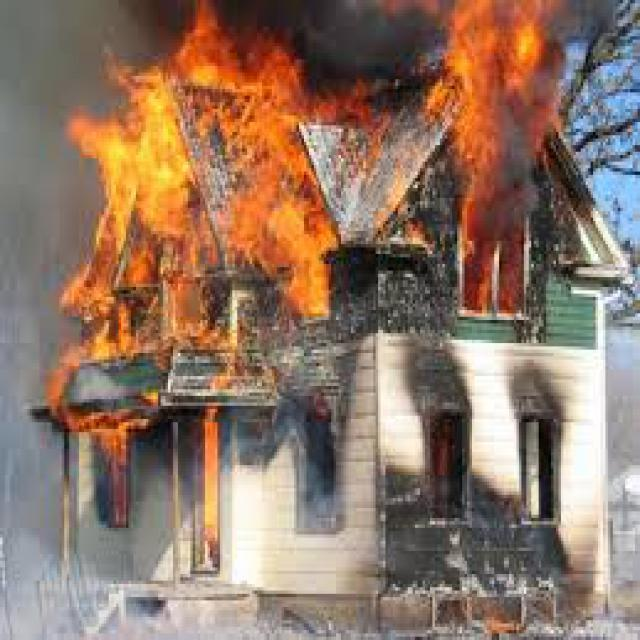Fire: (60, 44, 311, 344), (444, 1, 535, 207)
Smoke: (132, 0, 445, 109)
